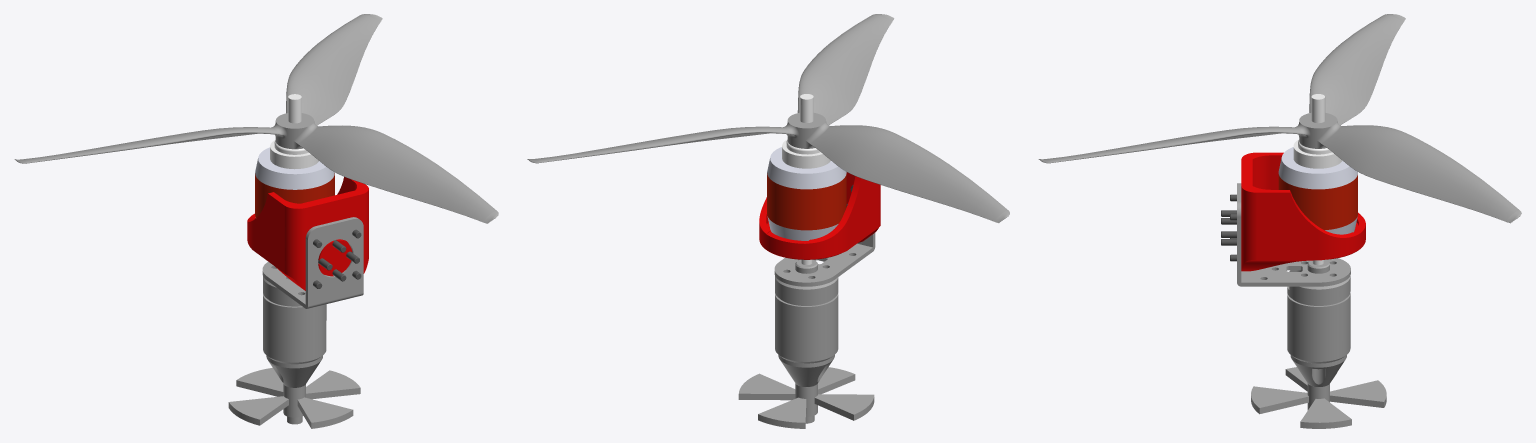
Rendered from thrust_unit_forward.dae.
The picture shows the model from 3 angles, left to right: view 1: azimuth 30°, elevation 25°; view 2: azimuth 150°, elevation 25°; view 3: azimuth 270°, elevation 25°; orthographic projection.
Visible parts, largest first — view 1: thrust_unit_forward; view 2: thrust_unit_forward; view 3: thrust_unit_forward.
Boxes of the visible parts, bbox=[...] form: thrust_unit_forward: bbox=[14, 14, 498, 428]; thrust_unit_forward: bbox=[527, 14, 1009, 428]; thrust_unit_forward: bbox=[1038, 14, 1521, 428].
Bounding box in the file's own units: 0.2156 × 0.2136 × 0.1578.
